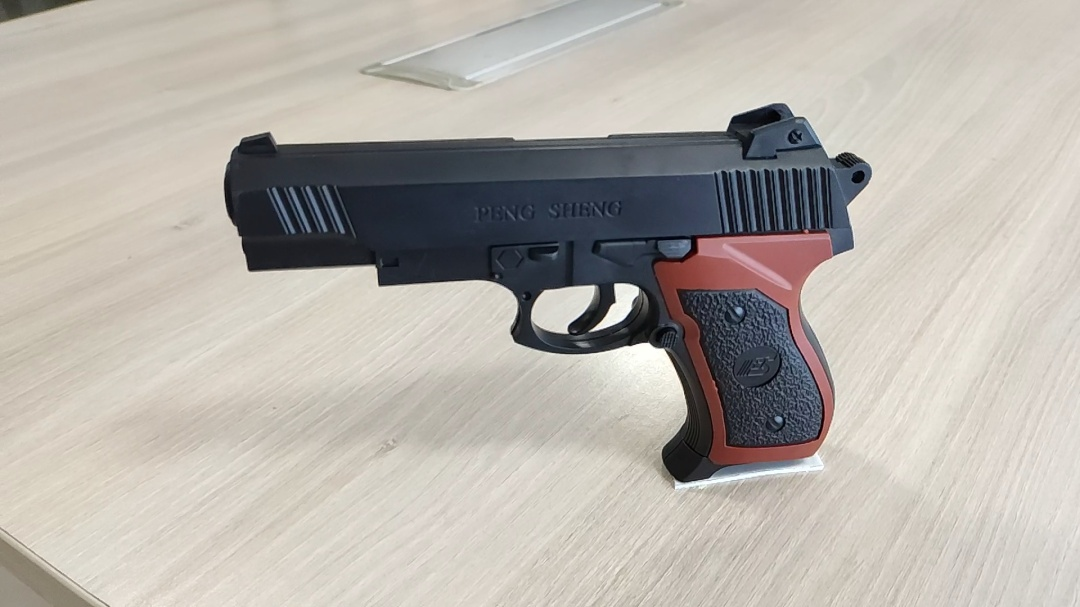gun: (220, 101, 873, 485)
